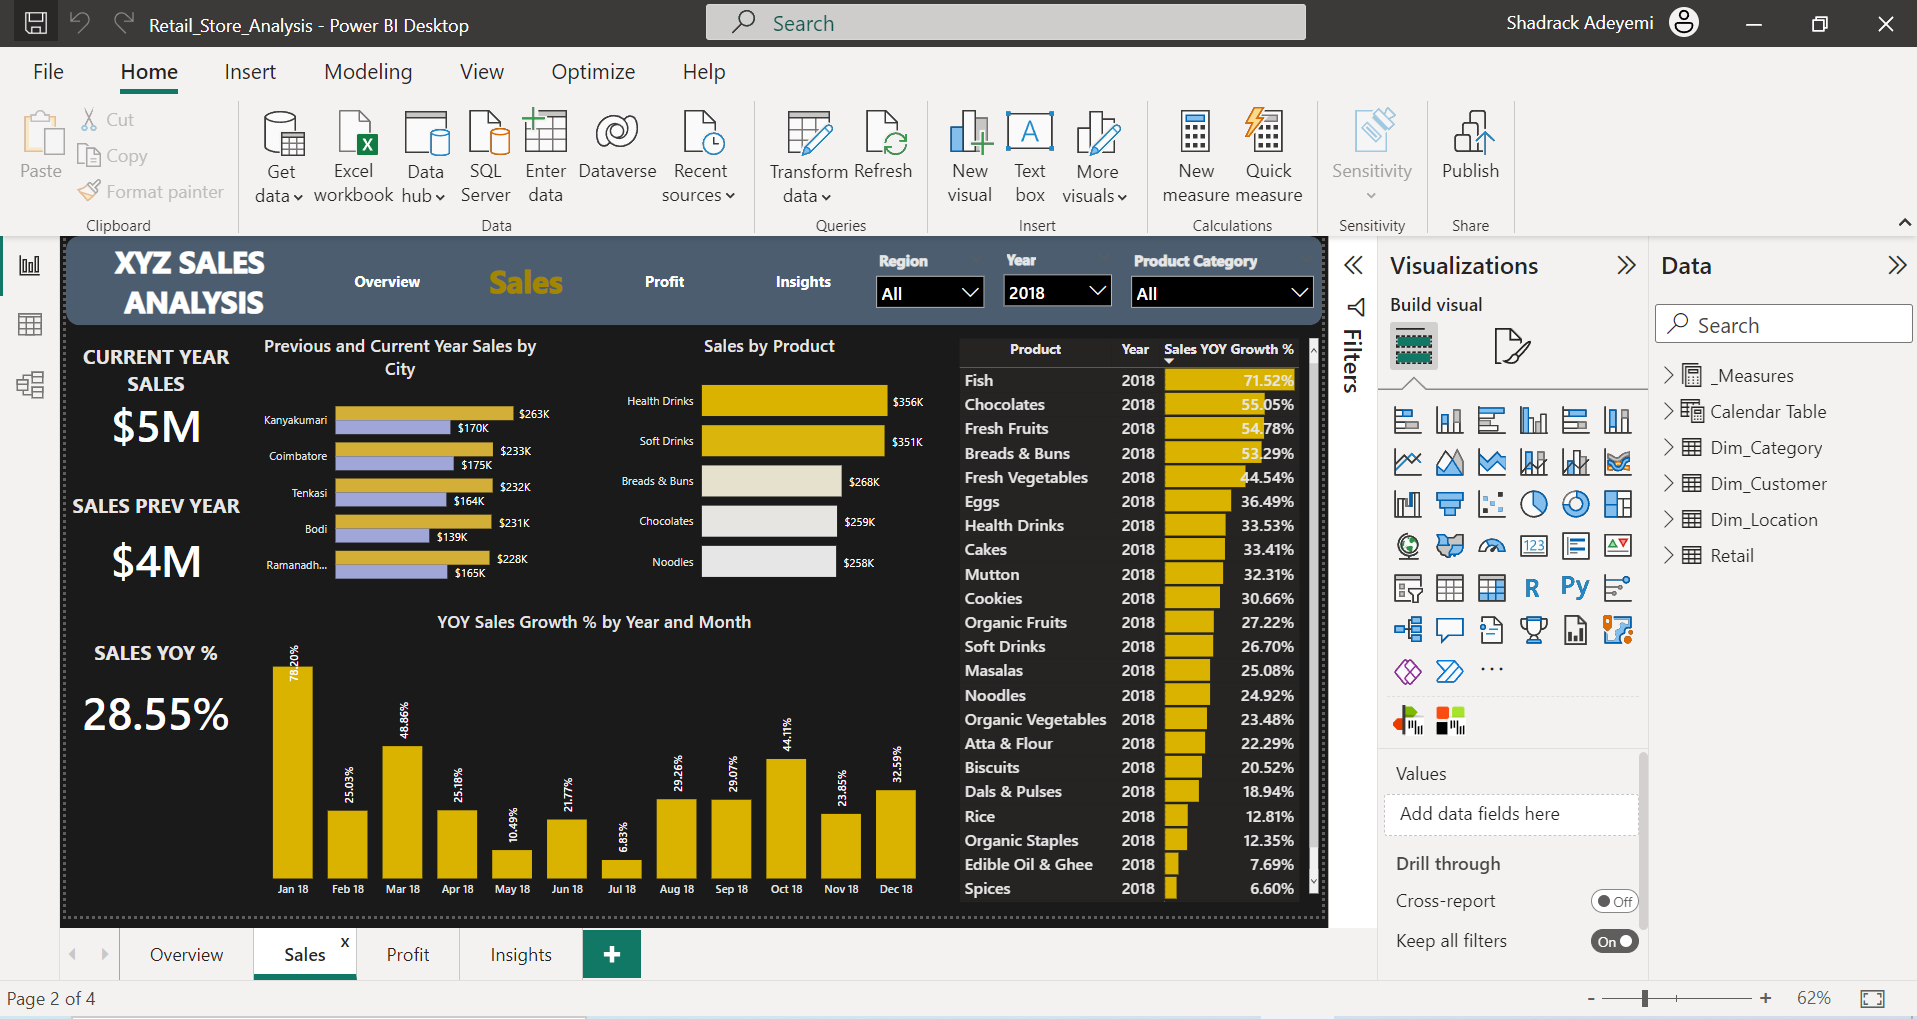

What the dashboard file says about the page in this screenshot:
{"tool":"powerbi","page":{"name":"Sales","canvas":[1350,730],"ordinal":1},"visuals":[{"type":"clusteredColumnChart","title":"YOY Sales Growth % by Year and Month","fields":{"Y":["_Measures.Sales YOY Growth %"],"Category":["Calendar Table.Year Month"]},"box":[193.8,401.2,748.8,318.8],"z":0},{"type":"card","title":"CURRENT YEAR SALES","fields":{"Values":["_Measures.Sales CY"]},"box":[0,114.8,193.4,116.4],"z":1000},{"type":"tableEx","fields":{"Values":["Dim_Category.Sub Category","Calendar Table.Year","_Measures.Sales YOY"]},"box":[953.8,105,396.2,615],"z":2000},{"type":"clusteredBarChart","title":"Previous and Current Year Sales by City","fields":{"Category":["Dim_Location.City"],"Y":["_Measures.Sales CY","_Measures.Sales PY"]},"box":[193.8,105,331.2,285],"z":3000},{"type":"shape","box":[0,0,1350,96.2],"z":4000},{"type":"textbox","box":[0,0,275,96.2],"z":5000},{"type":"slicer","fields":{"Values":["Dim_Category.Category"]},"box":[1133.8,10,216.2,77.5],"z":6000},{"type":"slicer","fields":{"Values":["Calendar Table.Year"]},"box":[997.5,8.8,136.2,77.5],"z":7000},{"type":"clusteredBarChart","title":"Sales by Product","fields":{"Category":["Dim_Category.Sub Category"],"Y":["_Measures.Total Sales"]},"box":[585,105,341.2,285],"z":8000},{"type":"card","title":"SALES PREV YEAR","fields":{"Values":["_Measures.Sales PY"]},"box":[0,273.8,193.4,116.4],"z":9000},{"type":"card","title":"SALES YOY %","fields":{"Values":["_Measures.Sales YOY Growth %"]},"box":[0,431.1,193.4,129.5],"z":10000},{"type":"slicer","fields":{"Values":["Dim_Location.Region"]},"box":[861.2,10,136.2,77.5],"z":11000},{"type":"pageNavigator","box":[275,0,586.2,96.2],"z":12000}]}

Visuals, with their boxes on the page's 1350x730 design canvas (x1, y1, x2, y2). These are canvas units, not pixel positions in the 1917x1019 screenshot, which may show the page scaled, cropped or inside an application window:
"YOY Sales Growth % by Year and Month" clusteredColumnChart: l=194, t=401, r=943, b=720
"CURRENT YEAR SALES" card: l=0, t=115, r=193, b=231
tableEx - Dim_Category.Sub Category x Calendar Table.Year: l=954, t=105, r=1350, b=720
"Previous and Current Year Sales by City" clusteredBarChart: l=194, t=105, r=525, b=390
shape: l=0, t=0, r=1350, b=96
textbox: l=0, t=0, r=275, b=96
slicer - Dim_Category.Category: l=1134, t=10, r=1350, b=88
slicer - Calendar Table.Year: l=998, t=9, r=1134, b=86
"Sales by Product" clusteredBarChart: l=585, t=105, r=926, b=390
"SALES PREV YEAR" card: l=0, t=274, r=193, b=390
"SALES YOY %" card: l=0, t=431, r=193, b=561
slicer - Dim_Location.Region: l=861, t=10, r=997, b=88
pageNavigator: l=275, t=0, r=861, b=96
